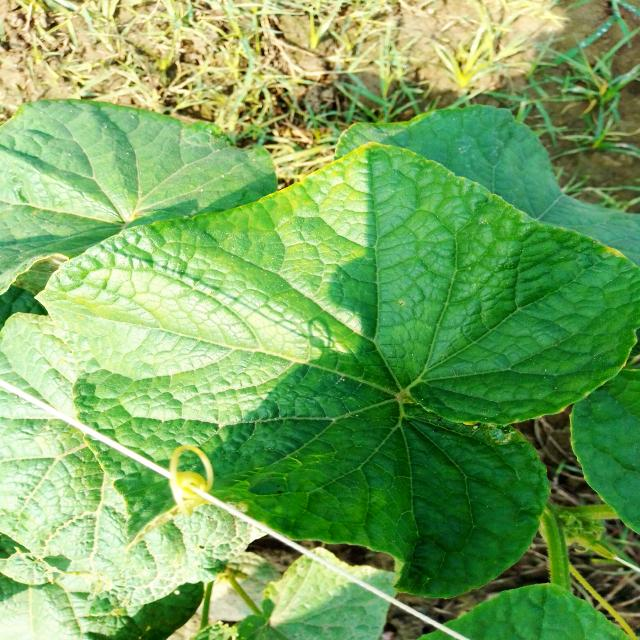Fresh-Leaf: (36, 141, 640, 599)
